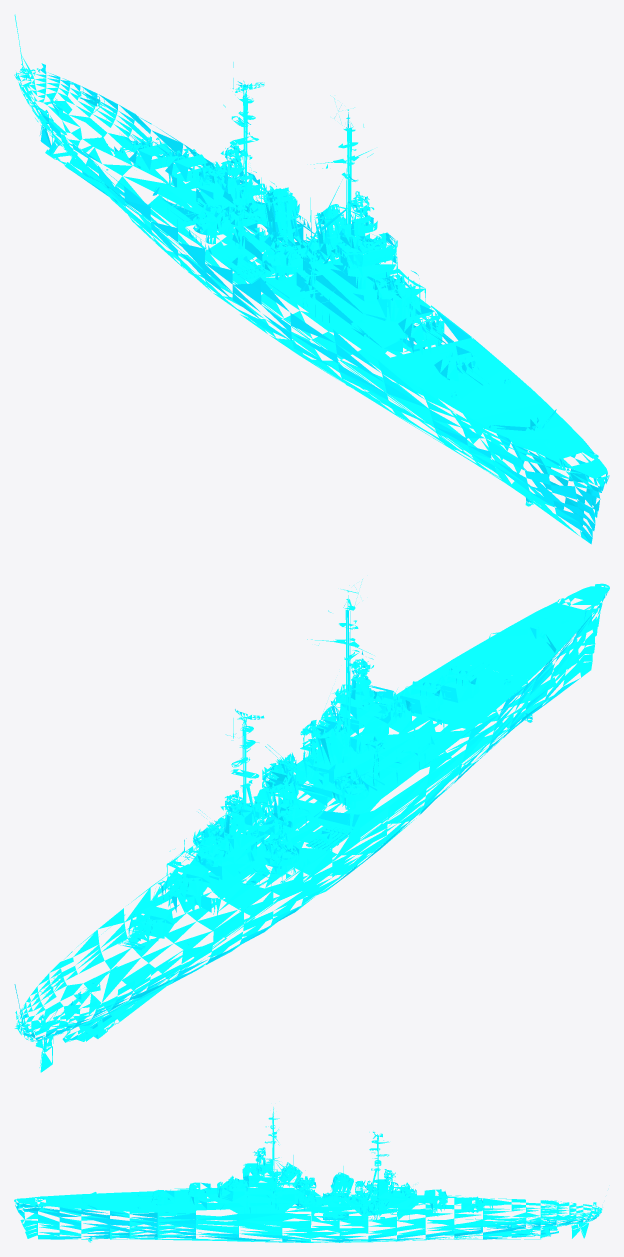
File: PRSC528.glb
The picture shows the model from 3 angles, top to bottom: view 1: azimuth 30°, elevation 25°; view 2: azimuth 150°, elevation 25°; view 3: azimuth 270°, elevation 25°; orthographic projection. The views are drawn at different scales.
Visible parts, largest first — view 1: hull_mid, hull_bow, hull_stern, main_battery, aa_mount, superstructure; view 2: hull_mid, hull_stern, hull_bow, main_battery, aa_mount, superstructure, torpedo; view 3: hull_mid, hull_stern, hull_bow, main_battery, aa_mount, superstructure, torpedo.
Boxes of the visible parts, x1,y1,x2,y2 form: hull_mid: [149, 62, 529, 469]; hull_bow: [451, 387, 609, 544]; hull_stern: [14, 14, 241, 253]; main_battery: [121, 131, 489, 385]; aa_mount: [195, 160, 405, 301]; superstructure: [220, 80, 386, 271]; hull_mid: [148, 595, 529, 957]; hull_stern: [14, 887, 243, 1072]; hull_bow: [451, 583, 609, 742]; main_battery: [118, 663, 489, 945]; aa_mount: [195, 689, 405, 863]; superstructure: [220, 579, 386, 830]; torpedo: [229, 807, 350, 851]; hull_mid: [129, 1111, 446, 1242]; hull_stern: [425, 1197, 602, 1240]; hull_bow: [14, 1192, 129, 1242]; main_battery: [134, 1182, 501, 1212]; aa_mount: [224, 1170, 415, 1212]; superstructure: [253, 1107, 395, 1200]; torpedo: [323, 1191, 349, 1220].
Bounding box in the file's own units: 1.25 × 3.11 × 12.07.
